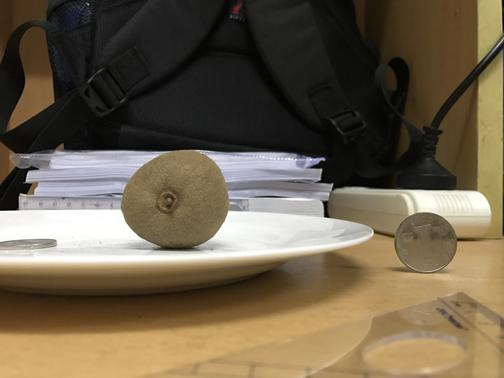coin: (395, 212, 458, 272)
qiwi: (118, 153, 229, 248)
